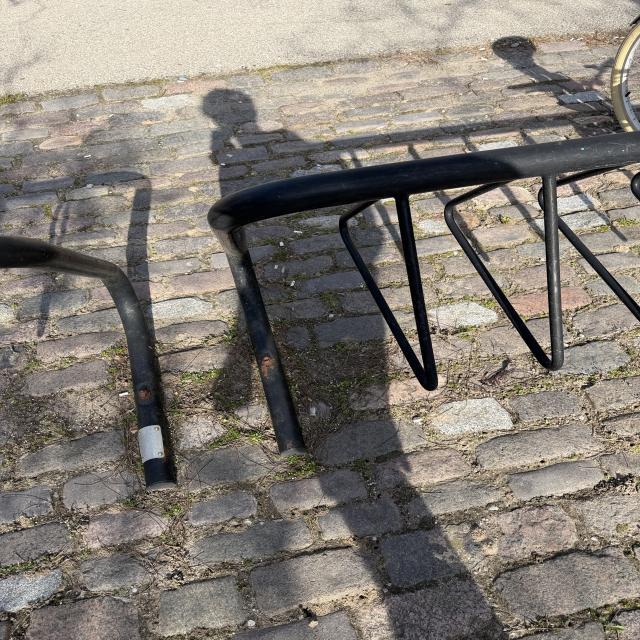Bicycle Rack: (211, 133, 640, 454), (0, 239, 188, 494)
